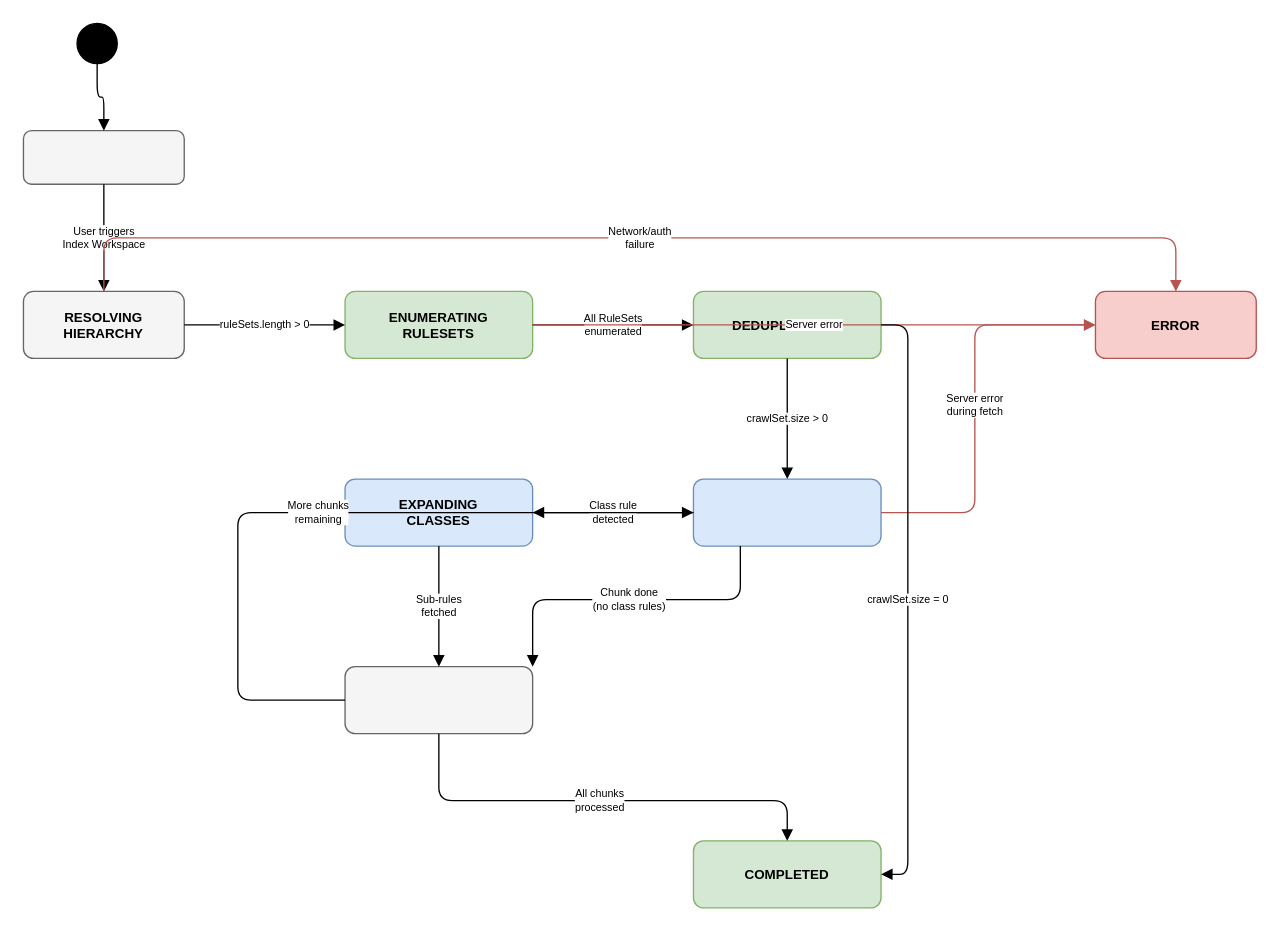
The diagram is 1280 pixels wide and 931 high, and some of its shapes have lost their labels. The shapes that lost their labels are listed below. From the top down, each one's centre as x and y in pixels, then its label:
pixel 103 156: IDLE
pixel 786 512: FETCHING CONTENT
pixel 438 699: INGESTING
